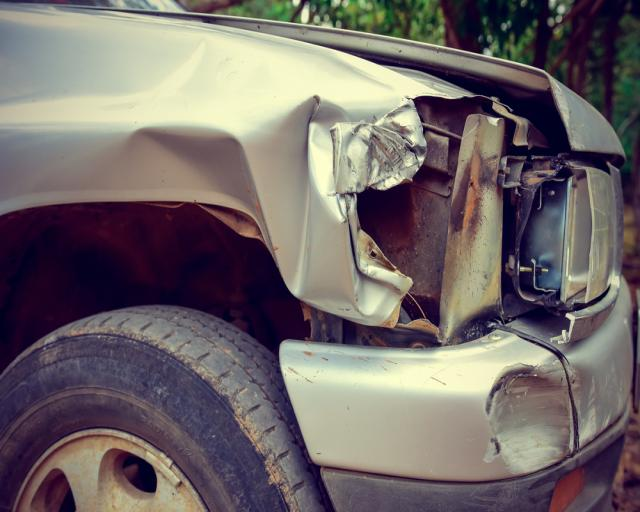dent: (119, 98, 423, 320), (486, 361, 573, 472), (565, 358, 602, 446)
